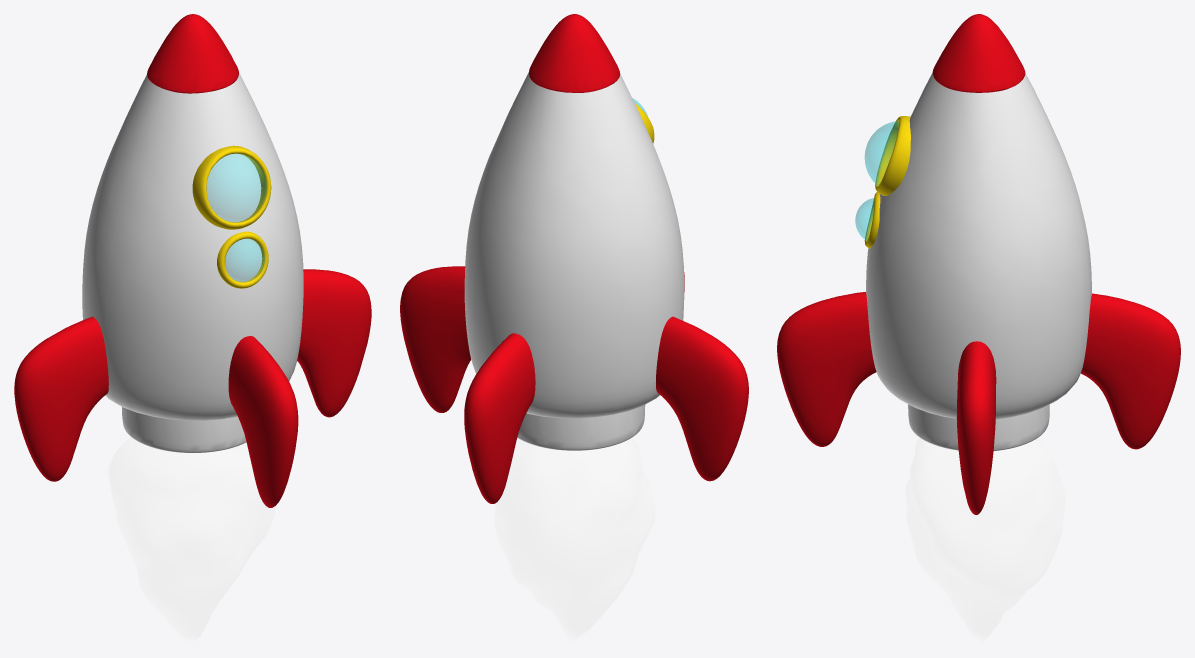
The model's file is rocket.glb.
3 views of the same model, side by side, from view 1: azimuth 30°, elevation 25°; view 2: azimuth 150°, elevation 25°; view 3: azimuth 270°, elevation 25° (orthographic).
Parts seen in each view (by area): view 1: Body, Fire, Window; view 2: Body, Fire; view 3: Body, Fire, Window.
Part boxes in pixels (box(x1,y1,x2,y2)): Body: box(14, 14, 371, 507); Fire: box(108, 437, 276, 643); Window: box(207, 154, 266, 282); Body: box(400, 14, 748, 503); Fire: box(494, 438, 655, 643); Body: box(777, 14, 1180, 514); Fire: box(905, 438, 1065, 643); Window: box(855, 121, 899, 240).
Bounding box in the file's own units: 2.75 × 4.72 × 2.75.
3 materials, 3 textured.
